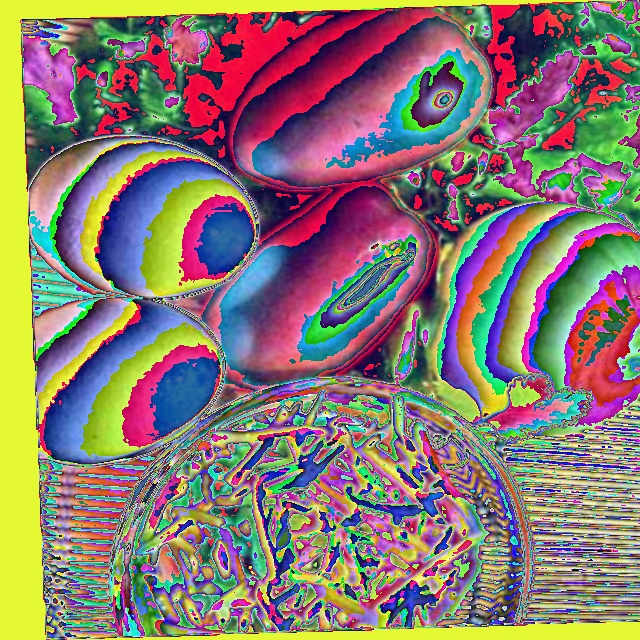background: (22, 2, 639, 467), (134, 247, 495, 636)
